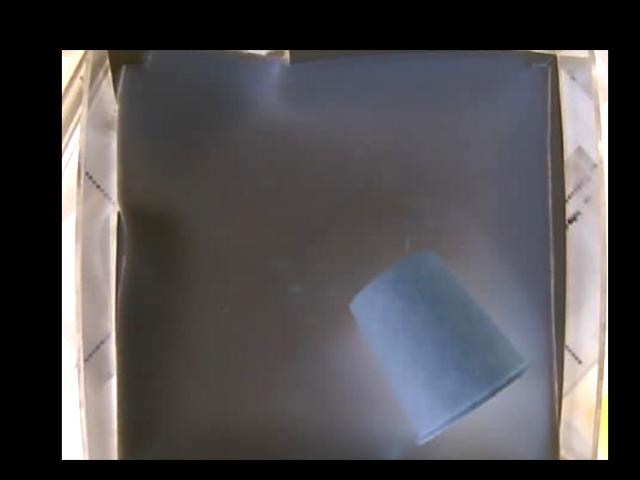Cup: (347, 252, 528, 444)
